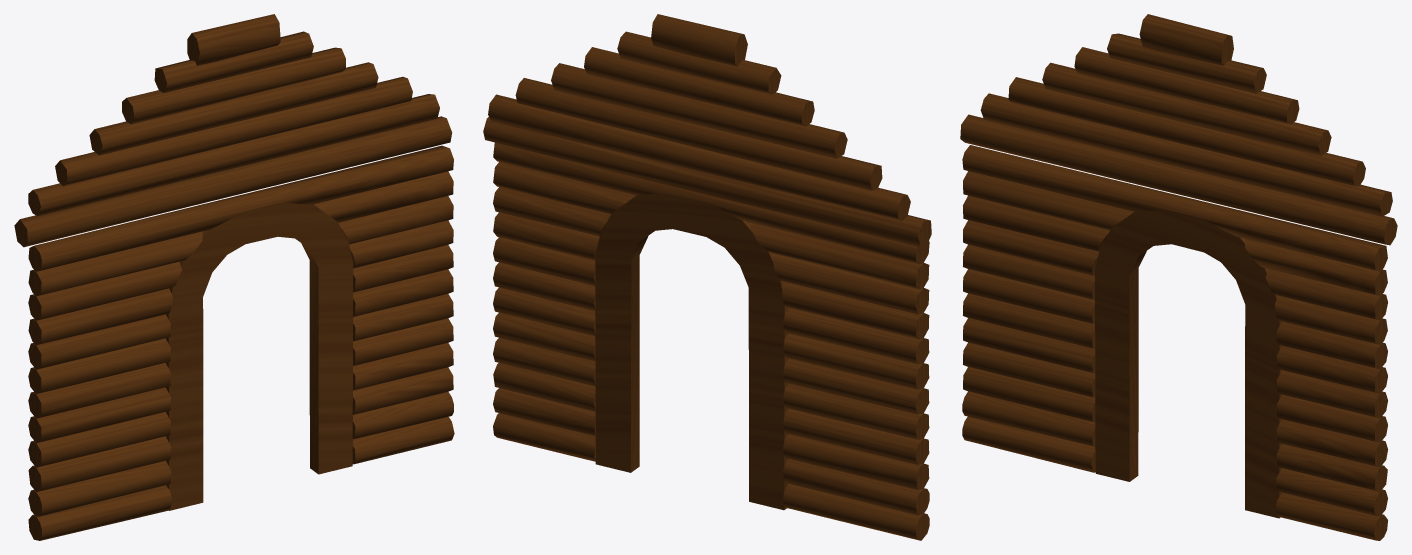
Rendered from WoodenWall_Door.fbx.
3 views of the same model, side by side, from view 1: azimuth 30°, elevation 25°; view 2: azimuth 150°, elevation 25°; view 3: azimuth 330°, elevation 25° (orthographic). The views are drawn at different scales.
Parts seen in each view (by area): view 1: WoodenWall/Door; view 2: WoodenWall/Door; view 3: WoodenWall/Door.
Part boxes in pixels (box(x1,y1,x2,y2)): WoodenWall/Door: box(14, 14, 454, 540); WoodenWall/Door: box(483, 14, 931, 540); WoodenWall/Door: box(960, 14, 1397, 540).
Bounding box in the file's own units: 620 × 642 × 60.09.
